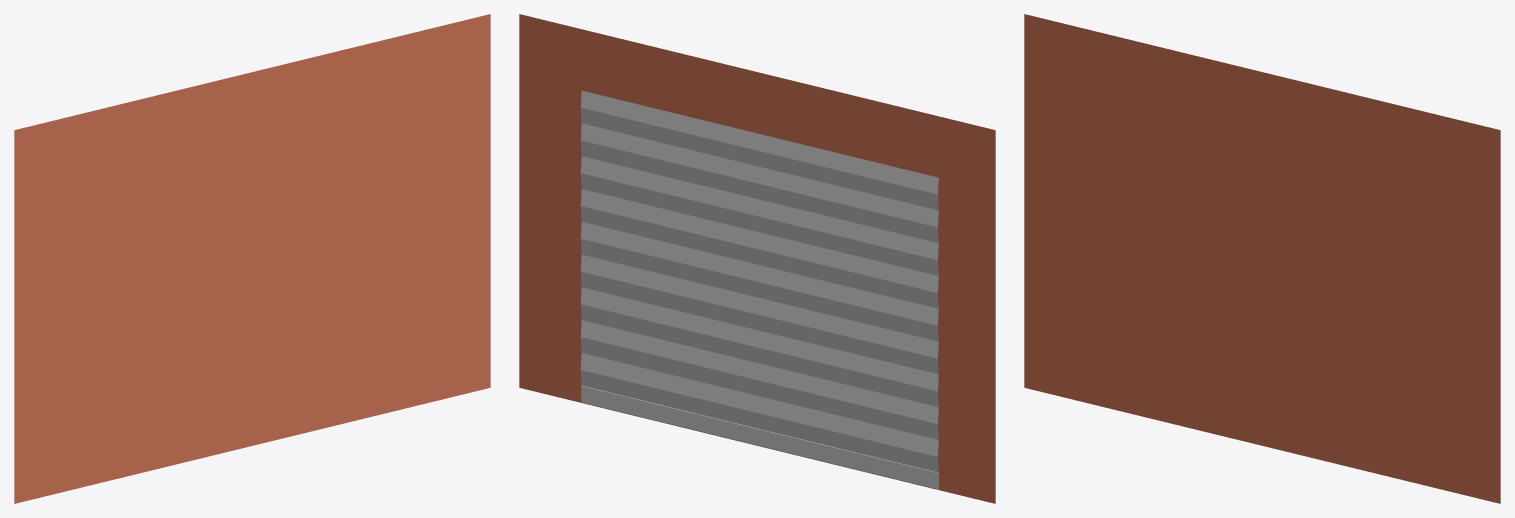
Rendered from modulo_persiana.fbx.
3 views of the same model, side by side, from view 1: azimuth 30°, elevation 25°; view 2: azimuth 150°, elevation 25°; view 3: azimuth 330°, elevation 25° (orthographic).
Visible parts, largest first — view 1: PARED; view 2: Plane.009, PARED; view 3: PARED.
Part boxes in pixels (x1,y1,x2,y2): PARED: (14,14,490,503); Plane.009: (580,90,938,489); PARED: (519,14,995,503); PARED: (1024,14,1500,503).
Bounding box in the file's own units: 400 × 300 × 1.7.
